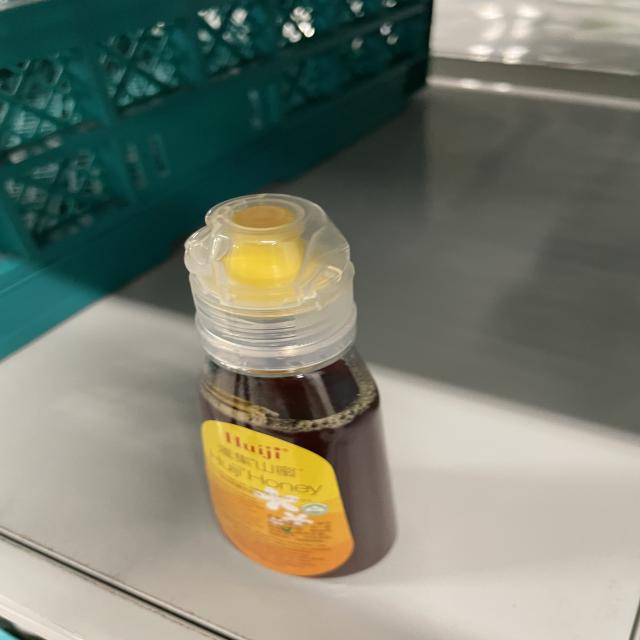object_name: (189, 199, 405, 577)
